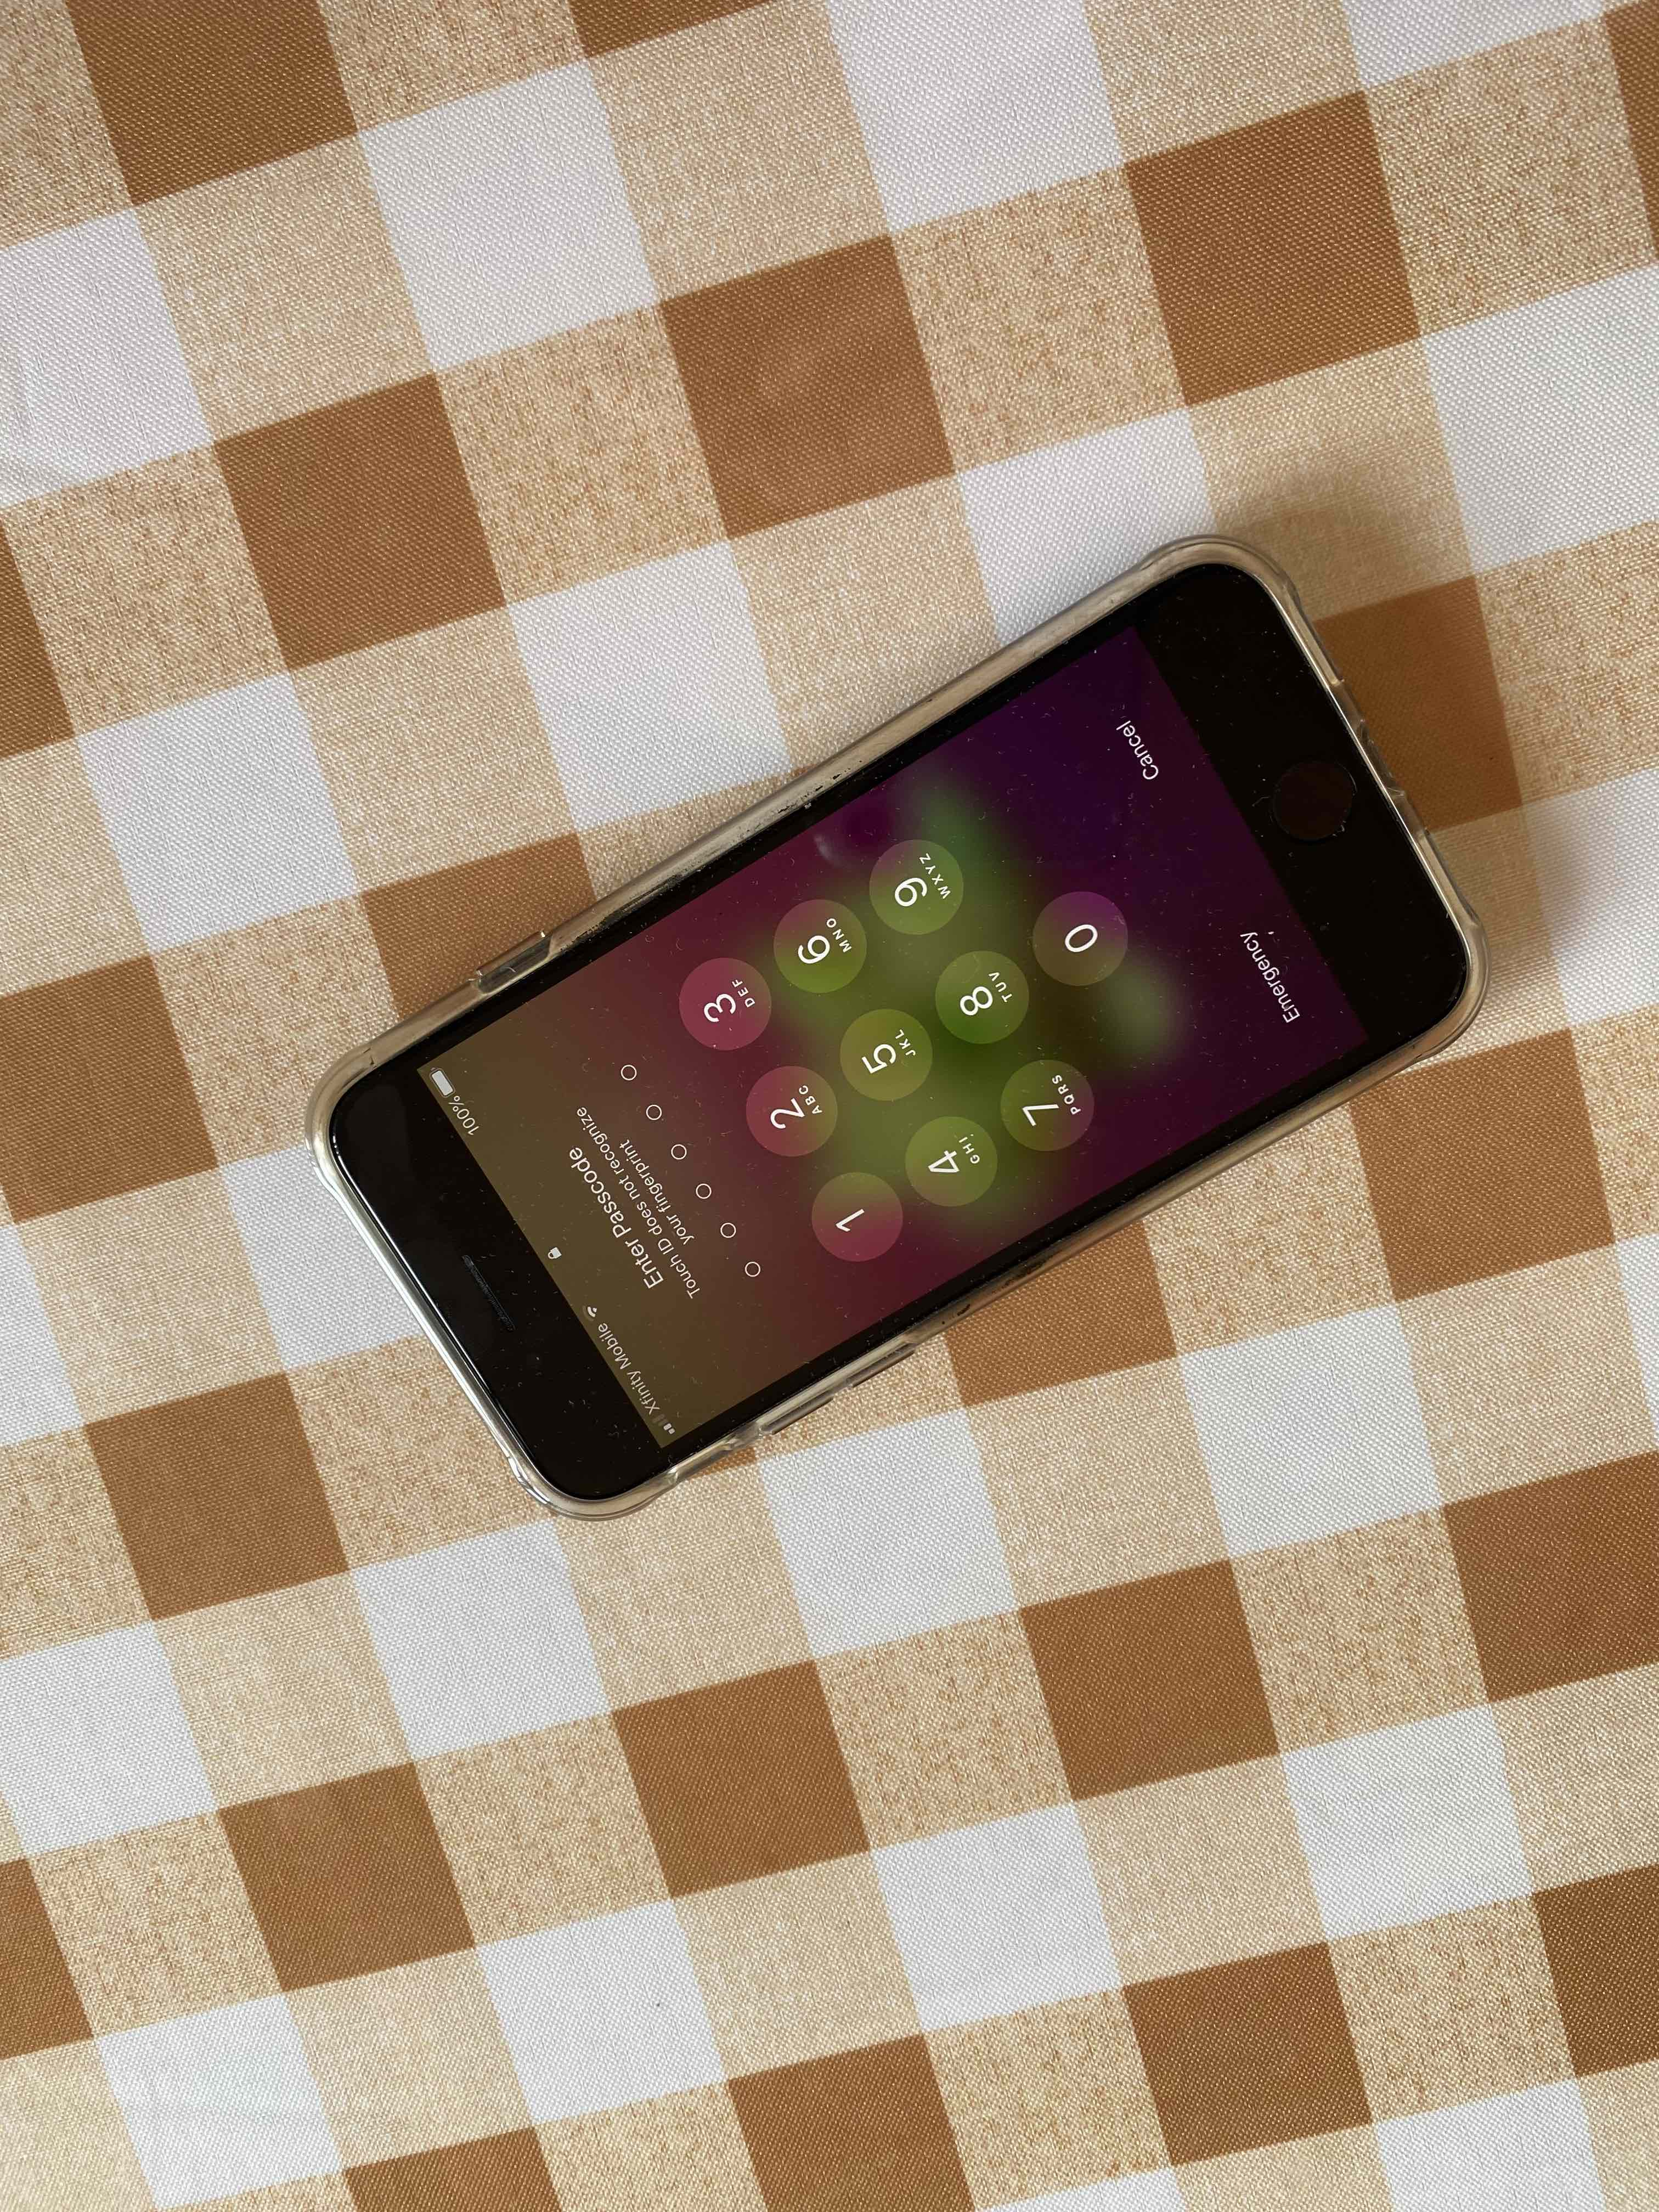Cell Phone: (286, 540, 1506, 1510)
